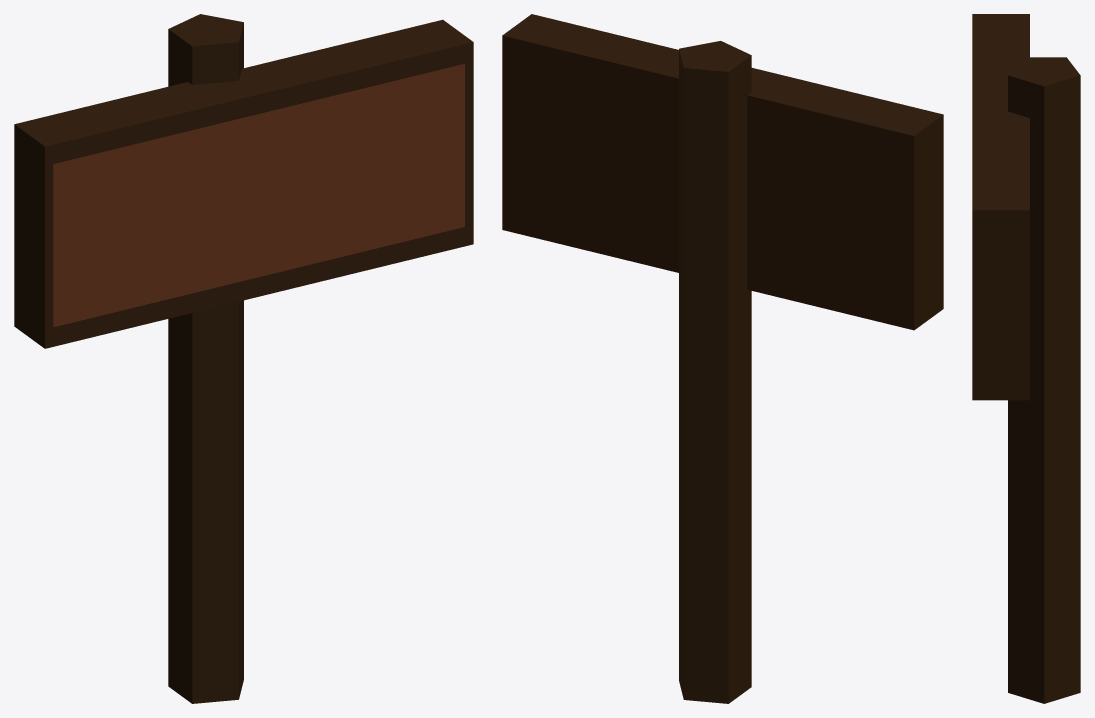
The model's file is Sign Post.FBX.
3 renders of one model, left to right at view 1: azimuth 30°, elevation 25°; view 2: azimuth 150°, elevation 25°; view 3: azimuth 270°, elevation 25°, orthographic. The views are drawn at different scales.
Parts seen in each view (by area): view 1: Sign post; view 2: Sign post; view 3: Sign post.
Boxes of the visible parts, <box> form: Sign post: <box>14,14,473,703</box>; Sign post: <box>502,14,943,703</box>; Sign post: <box>972,14,1080,703</box>.
Size of the model in its own units: 18.84 by 27.61 by 4.38.
